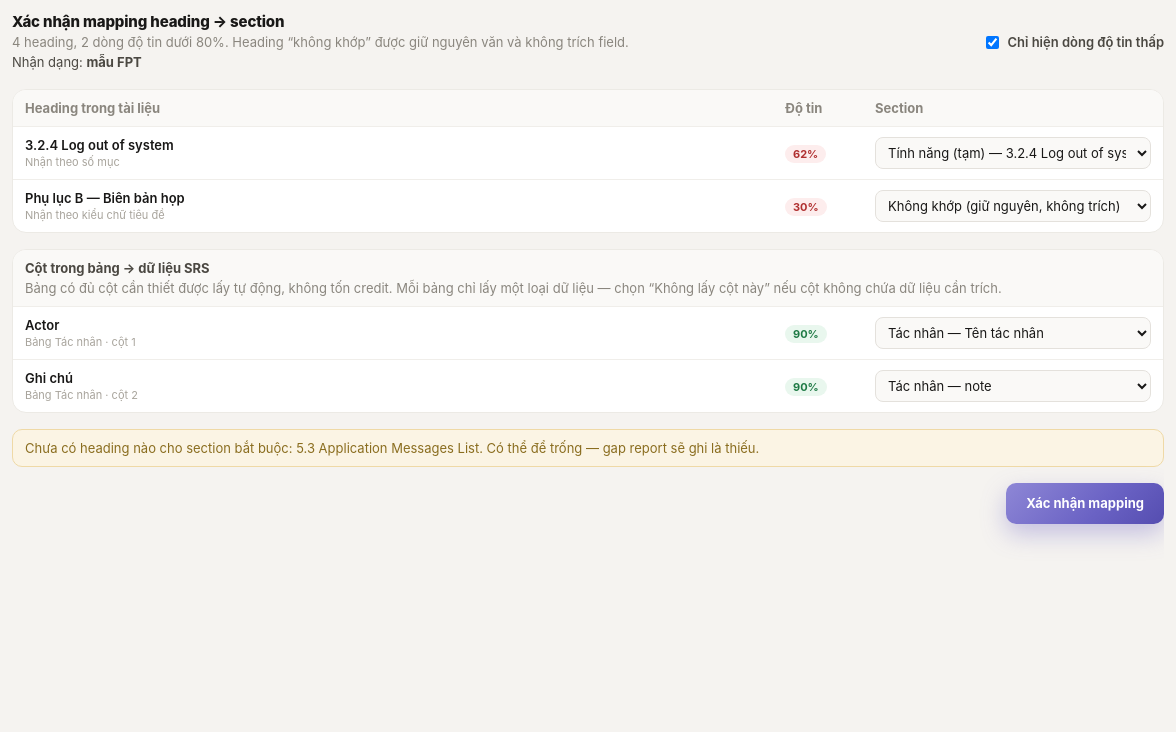
Test case: MappingReviewTable — chọn dữ liệu cho cột theo nhãn, không gõ field_path › cột khác loại với bảng ⇒ cảnh báo không được lấy; field lạ từ BE vẫn giữ trong danh sách
Step 1. Select "Thuật ngữ — Thuật ngữ / từ viết tắt" in the dropdown named "Dữ liệu cho cột Ghi chú" → (1013, 386), box [875,370,1151,402]
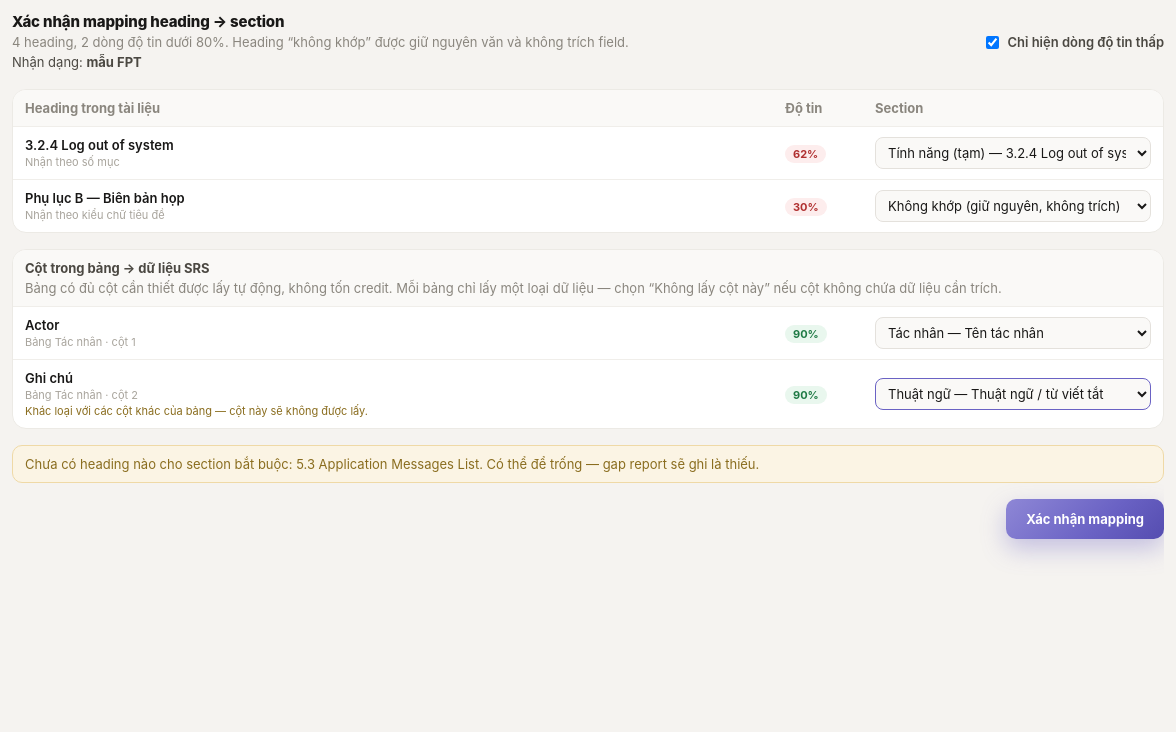
Expected: the text "Khác loại với các cột khác của bảng" is shown, [25,404,368,418]
